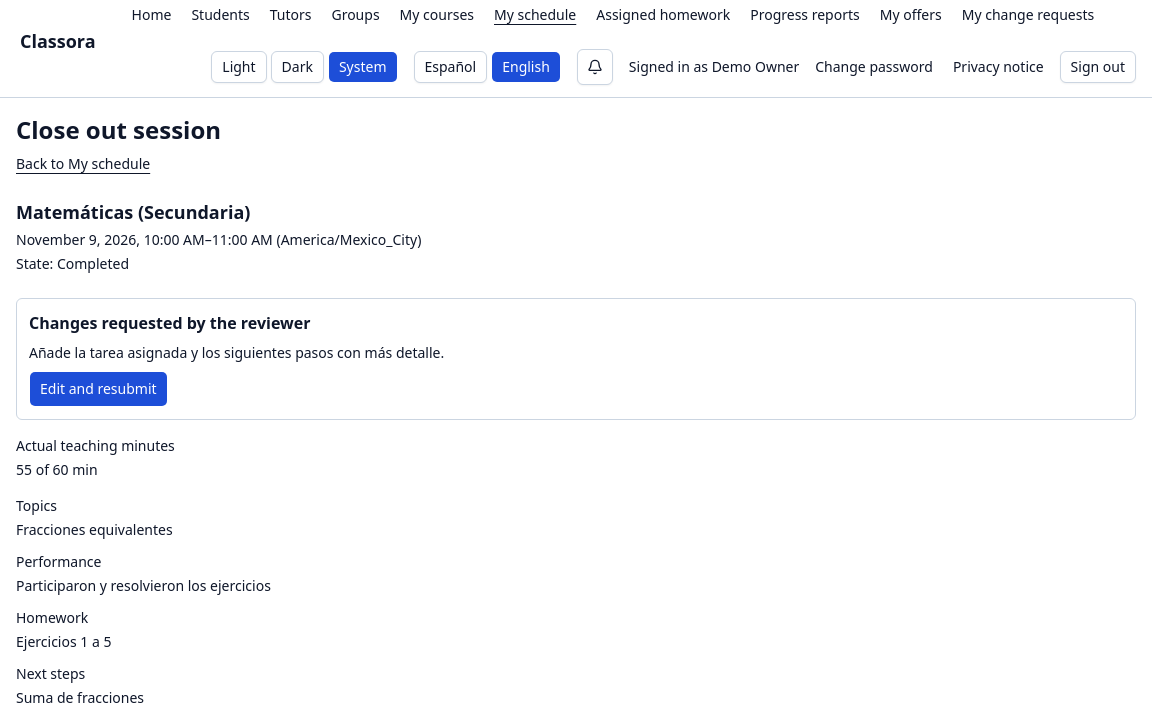
Scenario: the family visibility notice (#322 E1) › shows in the resubmit mode
The image size is (1152, 705).
Click the button "Edit and resubmit": (98, 389) [29,371,168,407]
(page scrolled)
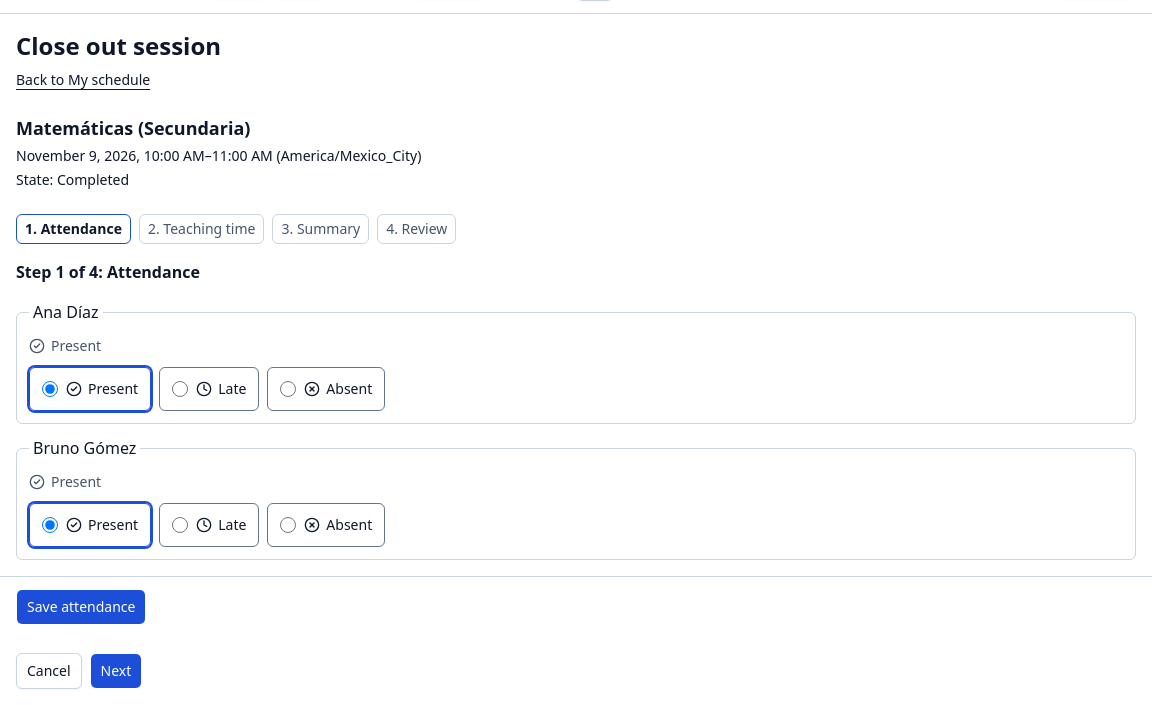
Click the button "Next": (116, 671) [90,653,142,689]
(page scrolled)
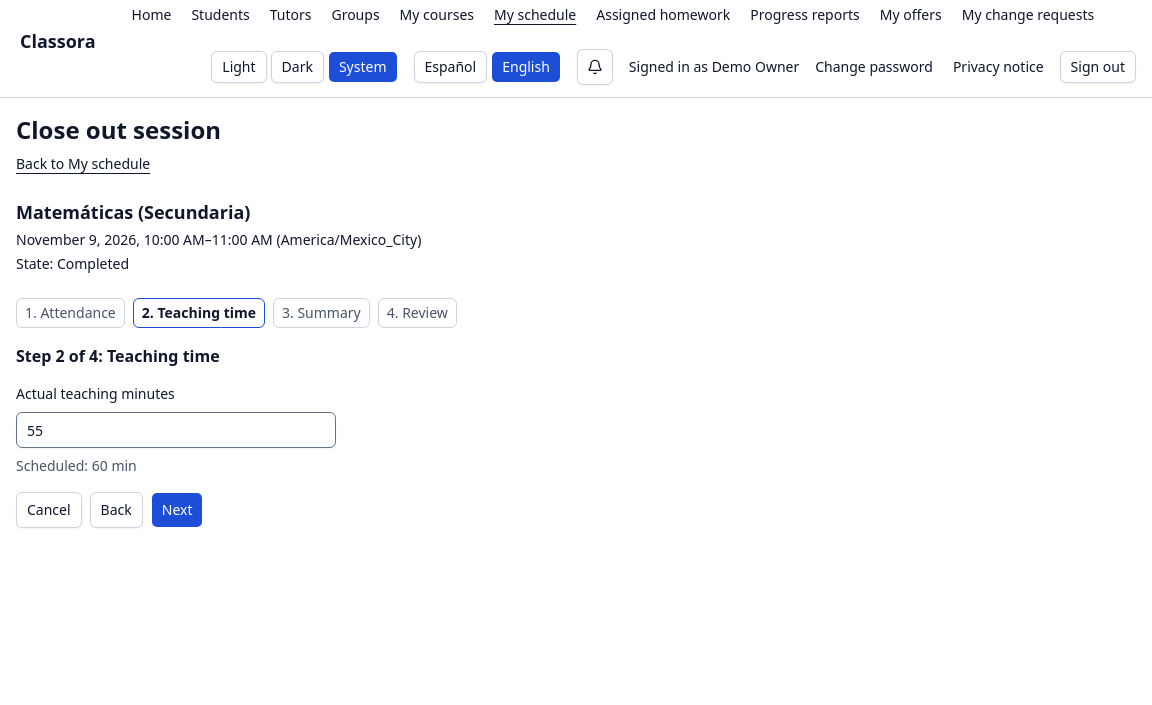
Click the button "Next": (177, 510) [151,492,204,528]
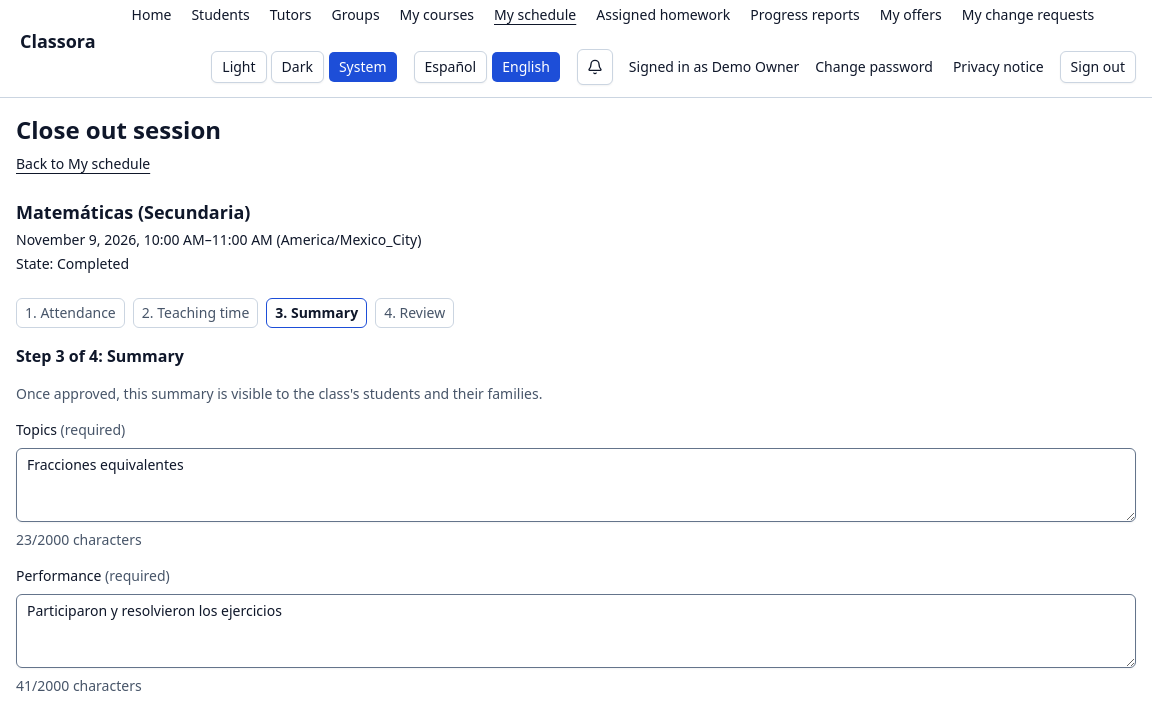
Expected: the heading "Step 3 of 4: Summary" is shown, [16,345,184,367]
